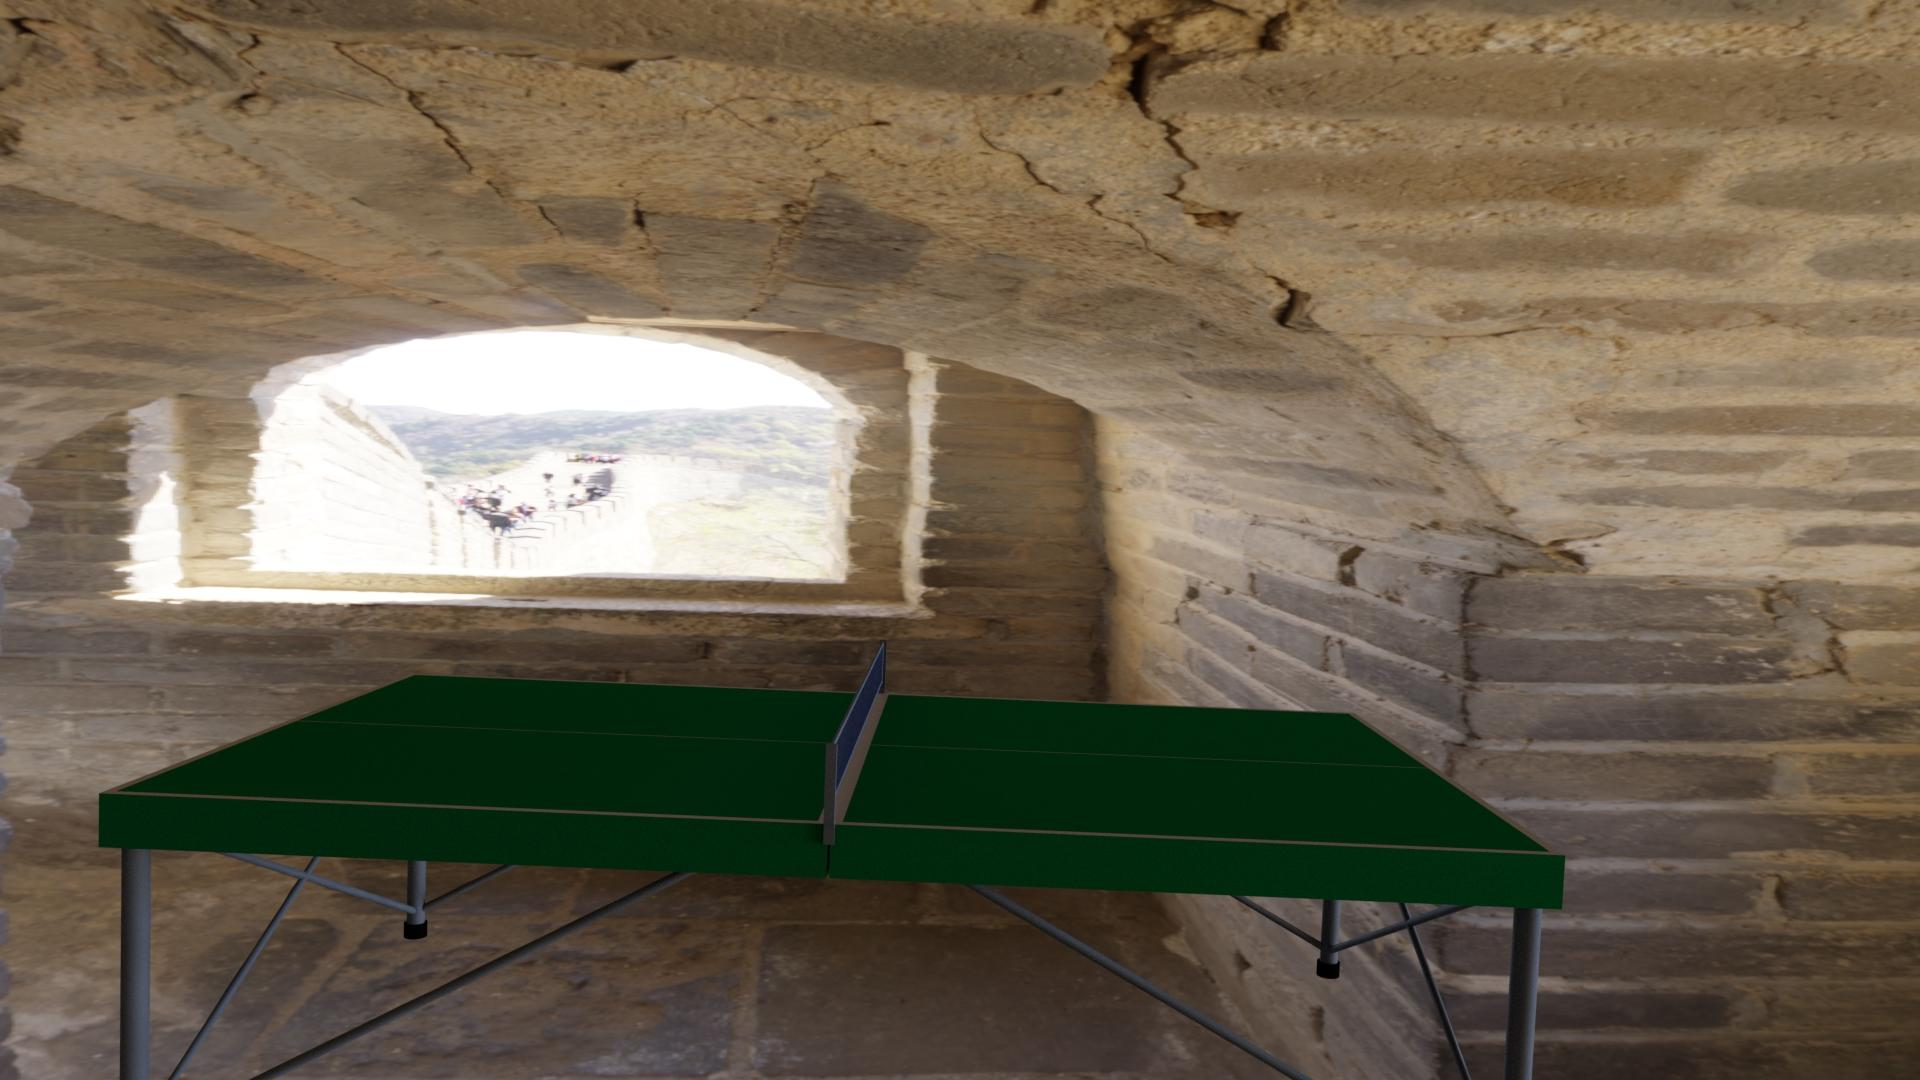table: (116, 675, 1551, 852)
